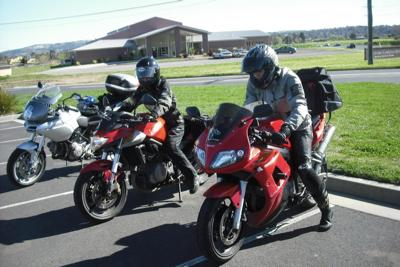With Helmet: (237, 43, 285, 91), (131, 55, 167, 92)
